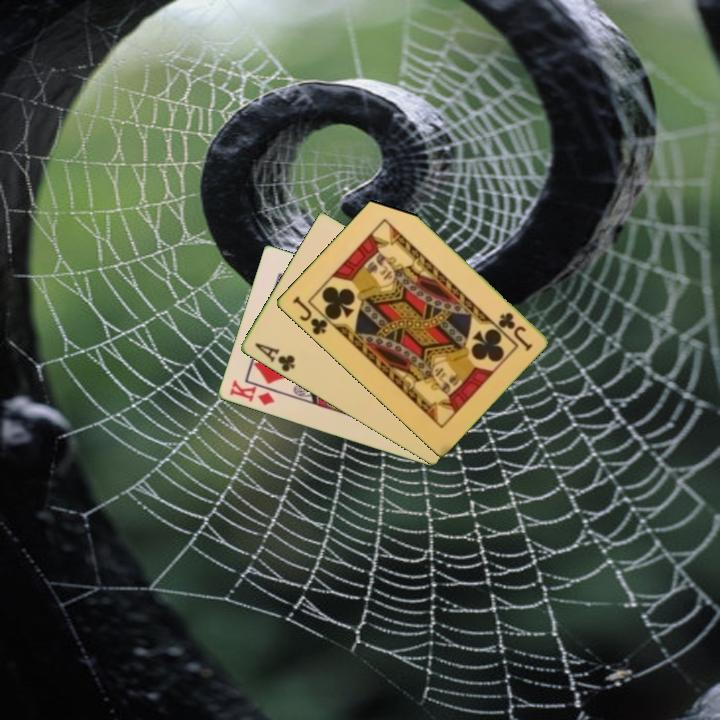Ac: (251, 339, 298, 375)
Jc: (289, 293, 336, 338), (494, 309, 535, 353)
Kd: (226, 377, 277, 409)
